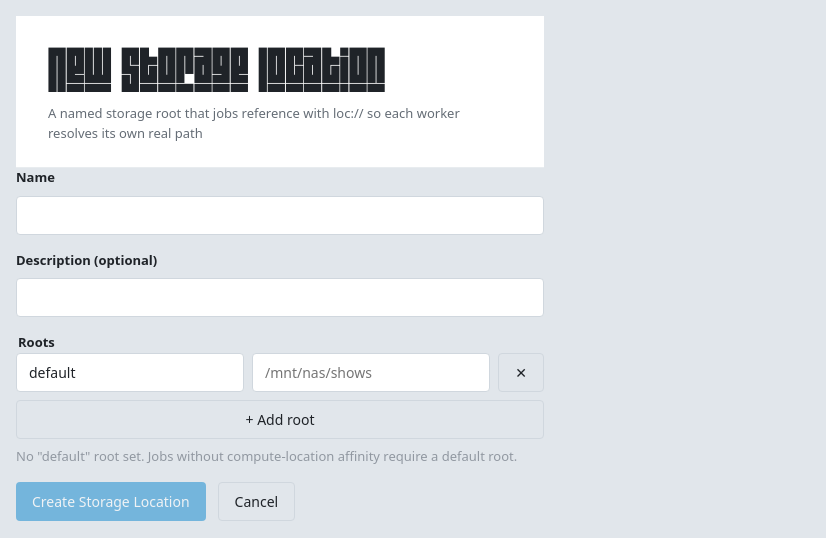
Test: StorageLocationForm (create) › reveals name help text when the name field is focused
Check: the text "letters, numbers" is not shown
Focus the field labelled "Name": (280, 215) [16,196,544,234]
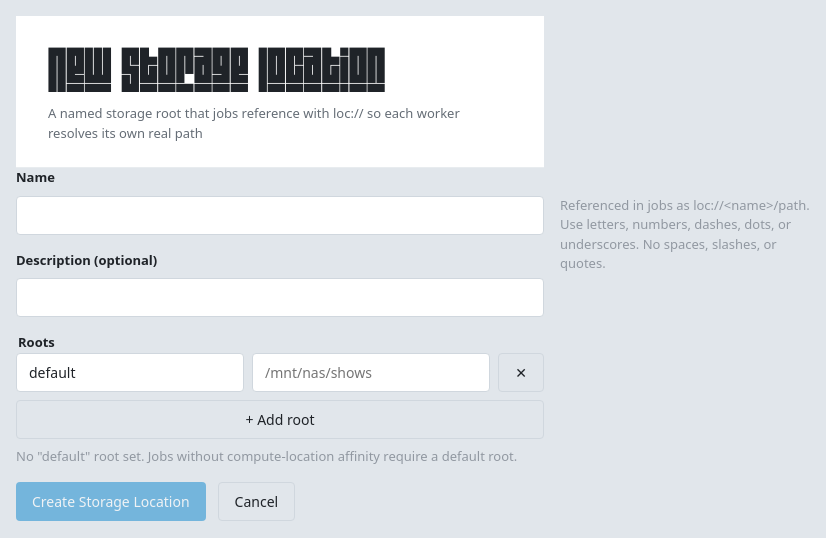
Check: the text "letters, numbers" is shown, box [560,196,810,272]
